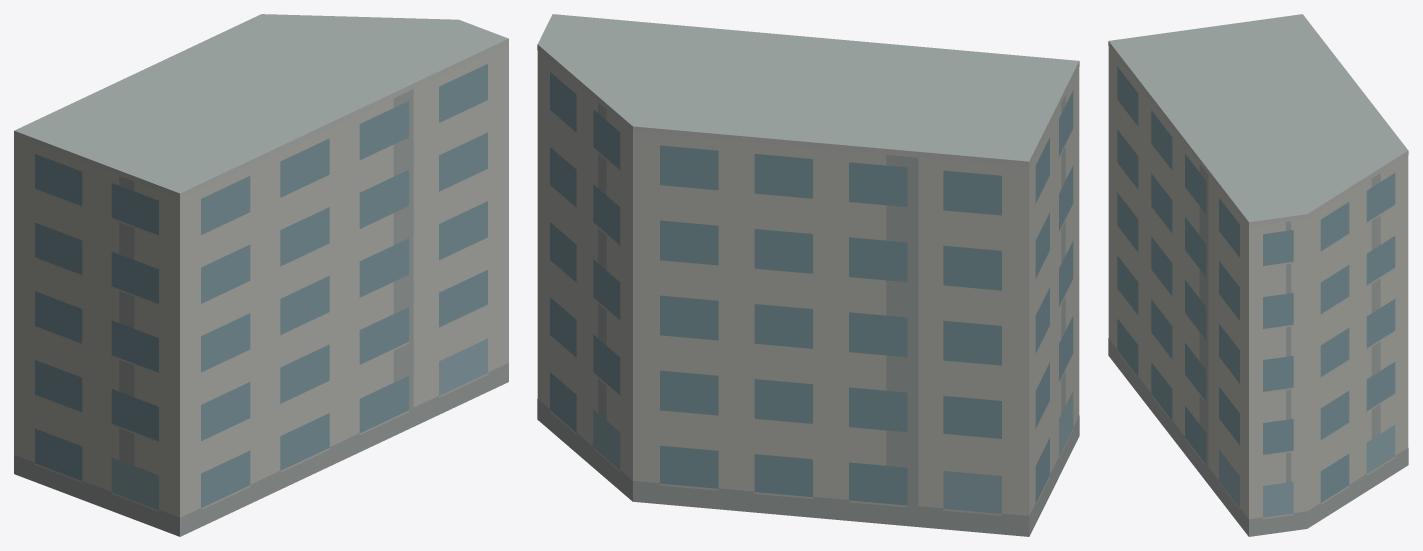
Rendered from residential-e46c0f44-615c-4cc7-8e47-6ebf68ad2cf8.glb.
The picture shows the model from 3 angles, left to right: view 1: azimuth 30°, elevation 25°; view 2: azimuth 150°, elevation 25°; view 3: azimuth 270°, elevation 25°; orthographic projection. The views are drawn at different scales.
Visible parts, largest first — view 1: residential-e46c0f44-615c-4cc7-8e47-6ebf68ad2cf8.tmp; view 2: residential-e46c0f44-615c-4cc7-8e47-6ebf68ad2cf8.tmp; view 3: residential-e46c0f44-615c-4cc7-8e47-6ebf68ad2cf8.tmp.
Part boxes in pixels (<box>): residential-e46c0f44-615c-4cc7-8e47-6ebf68ad2cf8.tmp: <box>14,14,508,536</box>; residential-e46c0f44-615c-4cc7-8e47-6ebf68ad2cf8.tmp: <box>537,14,1079,536</box>; residential-e46c0f44-615c-4cc7-8e47-6ebf68ad2cf8.tmp: <box>1108,14,1408,536</box>.
Size of the model in its own units: 21.64 by 15.25 by 13.18.
